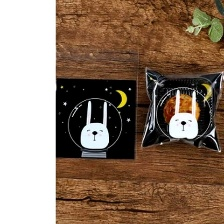snack: (55, 38, 143, 165), (136, 61, 224, 159)
